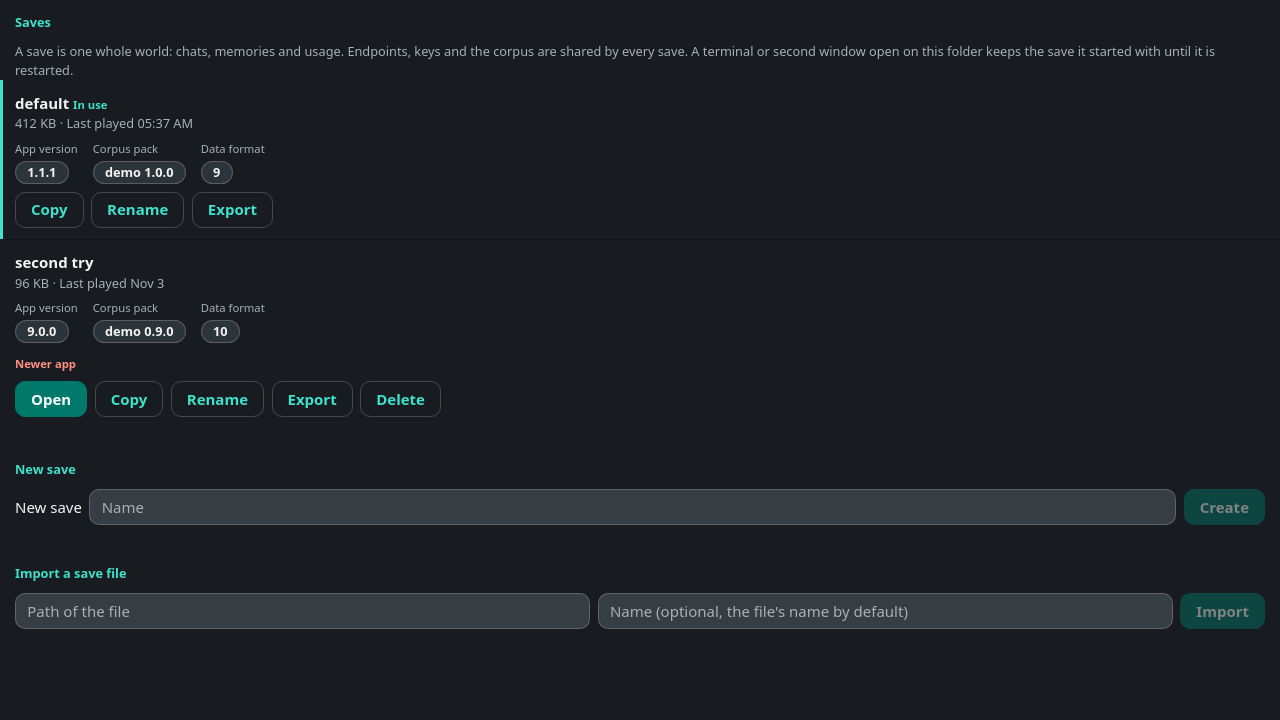
a save from a newer app is marked and cannot be opened
Expected: the text "second try" is shown, [15,252,93,272]
Expected: the text "Newer app" is shown, [15,355,76,374]
Step 1. Click the button "Open" → [51, 399], box [15,381,87,417]
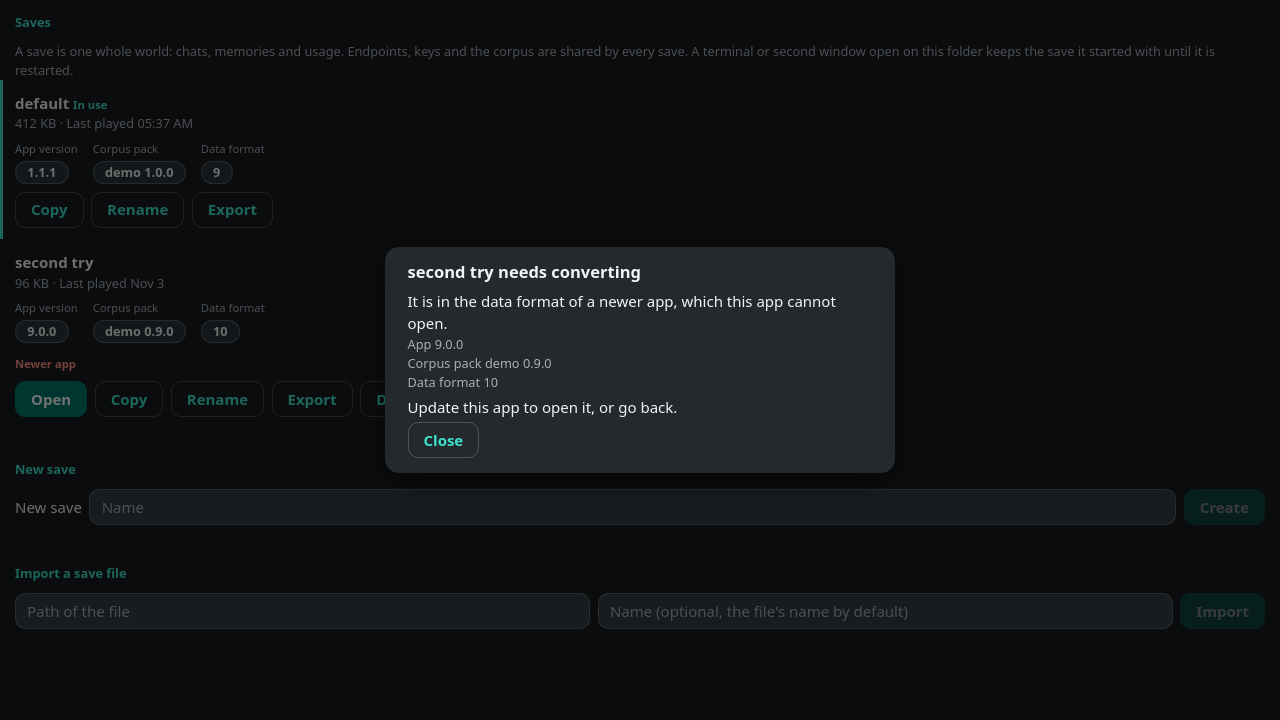
Result: the text "Update this app to open it, or go back." is shown at [408,397,677,417]
